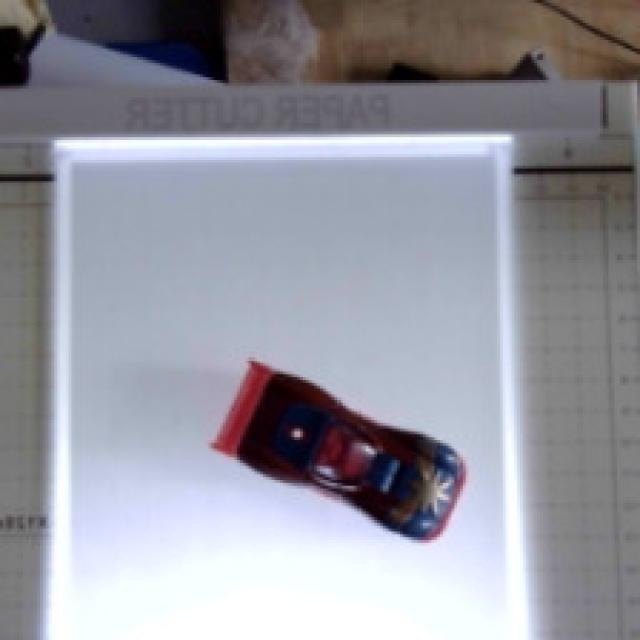Red Car: (165, 307, 488, 595)
